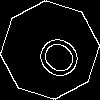O: (25, 25, 86, 85)
